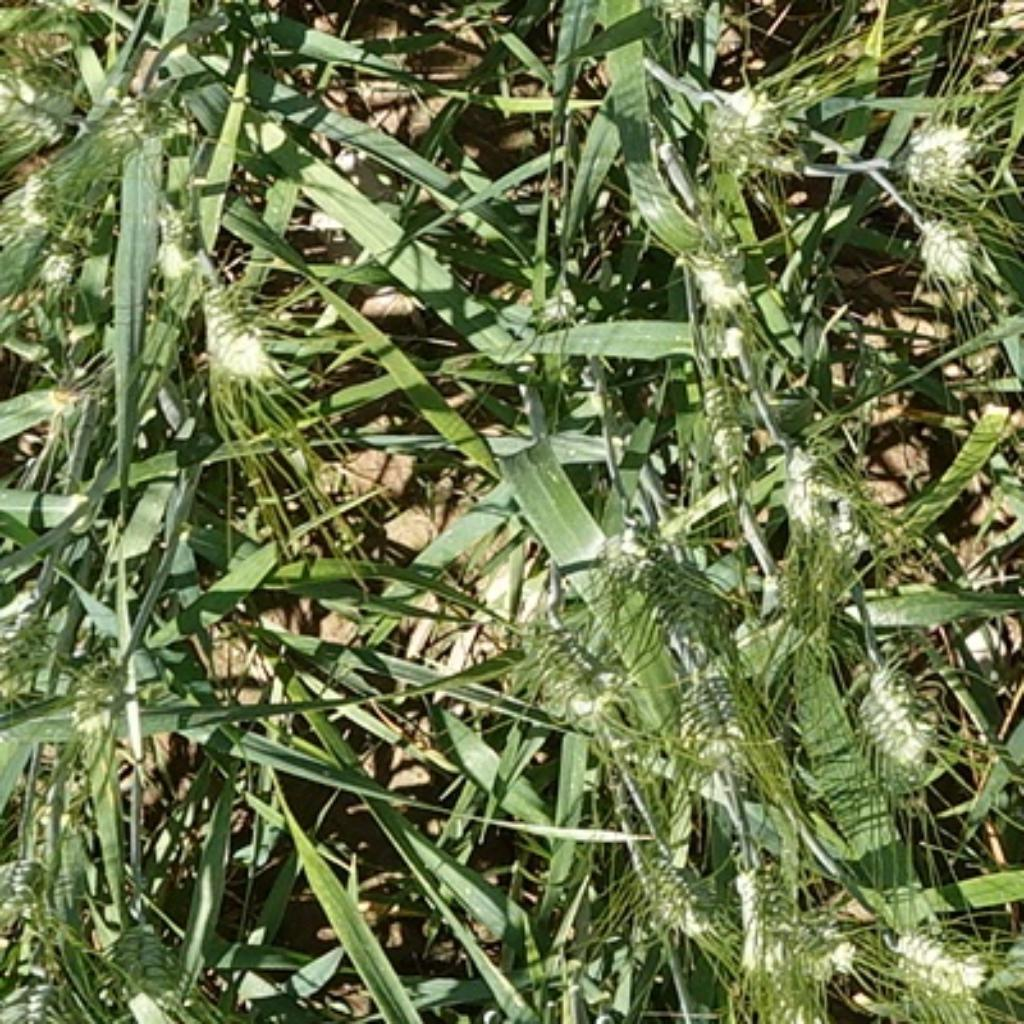0-0: (5, 750, 115, 944), (780, 432, 878, 586), (520, 605, 629, 729), (872, 908, 993, 1013), (672, 648, 762, 788), (844, 642, 942, 770), (89, 81, 222, 171), (616, 543, 733, 645), (30, 343, 128, 463), (721, 867, 801, 1000), (675, 360, 770, 468), (56, 629, 151, 737), (627, 833, 727, 934), (690, 81, 796, 176), (673, 207, 757, 317), (108, 909, 198, 1011), (189, 284, 277, 386), (783, 898, 860, 1013), (896, 112, 985, 189), (2, 58, 69, 153), (148, 199, 209, 296), (916, 207, 988, 287), (2, 960, 79, 1024), (2, 163, 76, 227), (28, 240, 92, 294)
